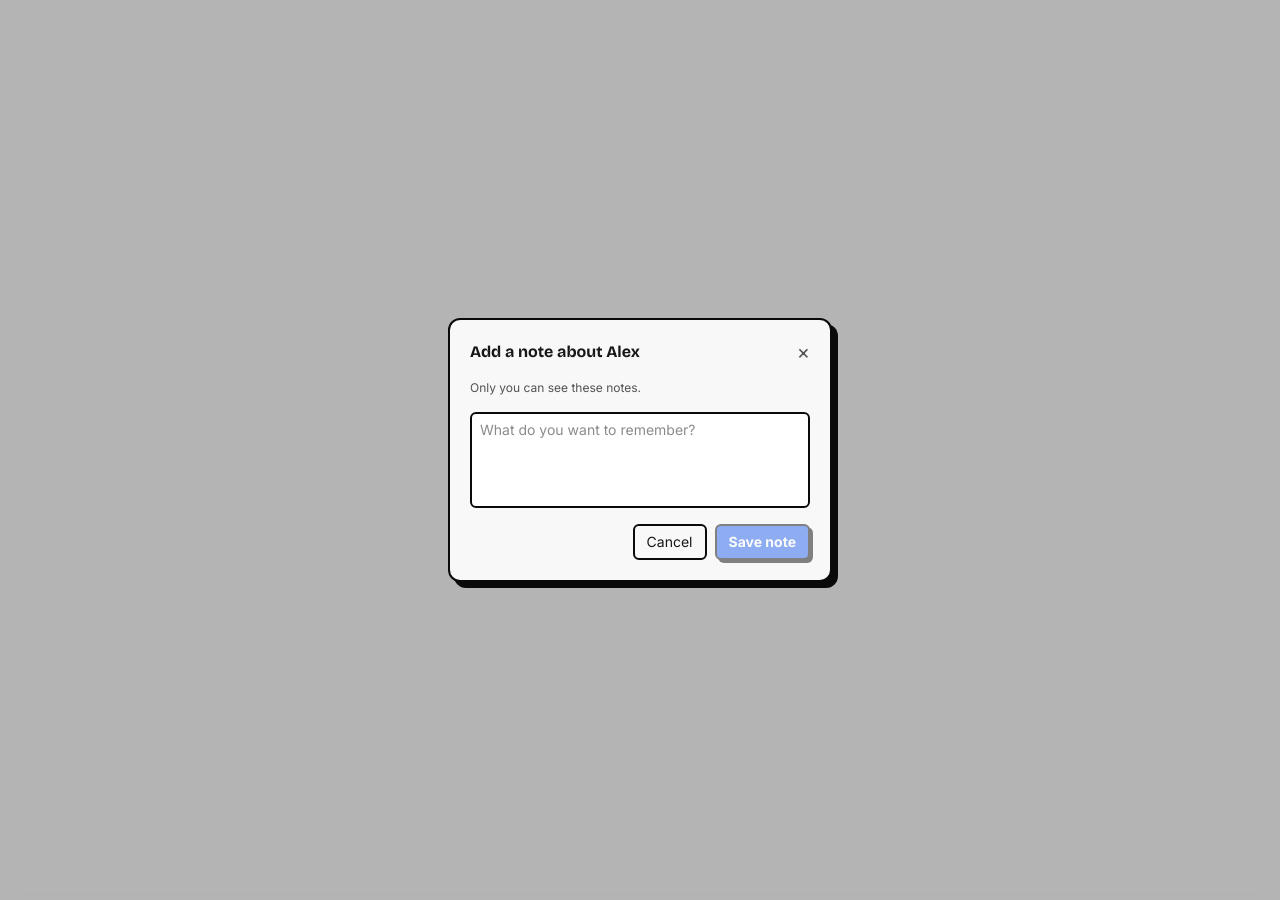
Test: AddNoteModal › on successful save shows the "Saved." confirmation, refreshes the list, and clears the textarea
Type "A short note" into the text box with placeholder "What do you want to remember?". click: coordinates (640, 460)
box: [470, 412, 810, 508]
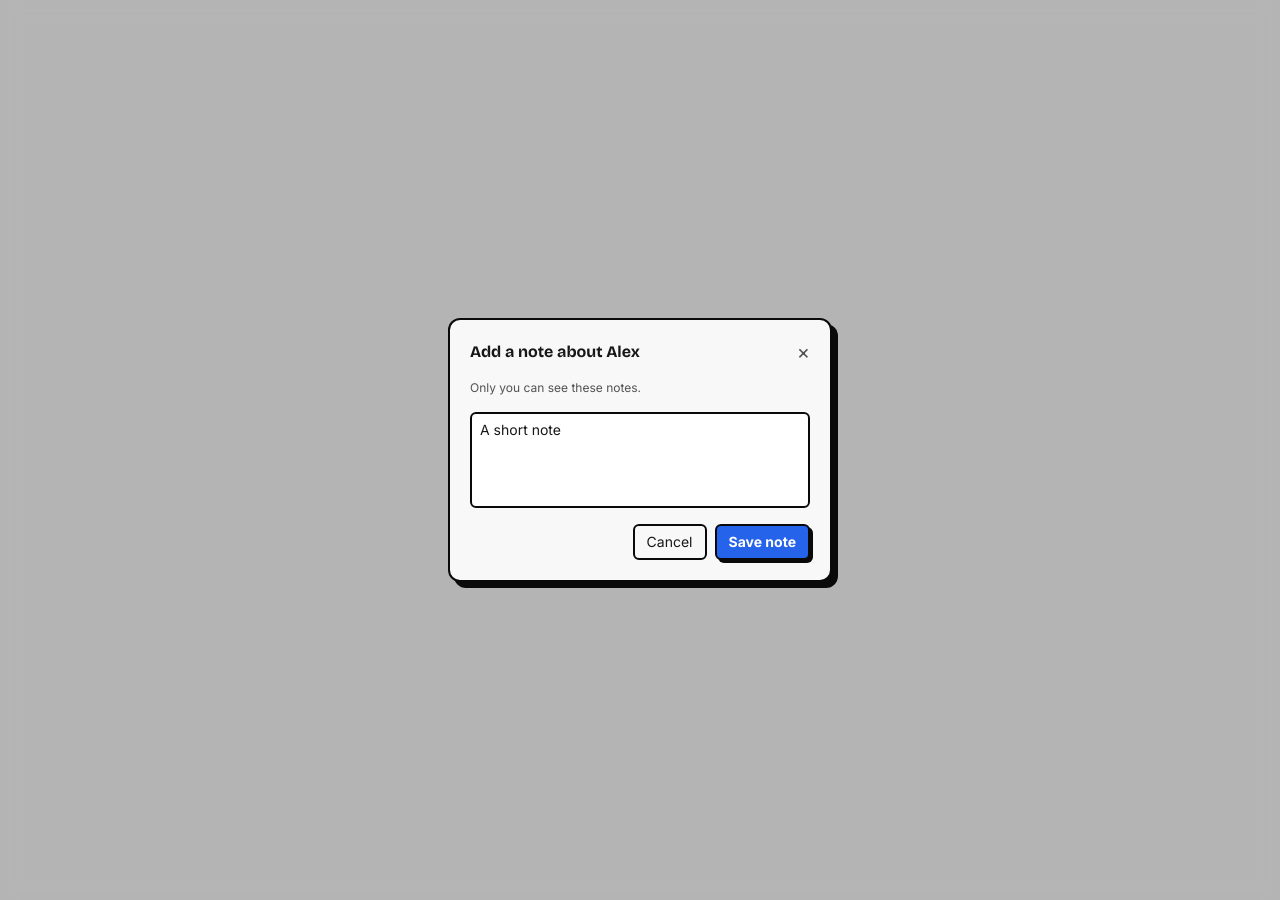
Click the button with test id "note-save". click: coordinates (762, 542)
box: [714, 524, 810, 560]
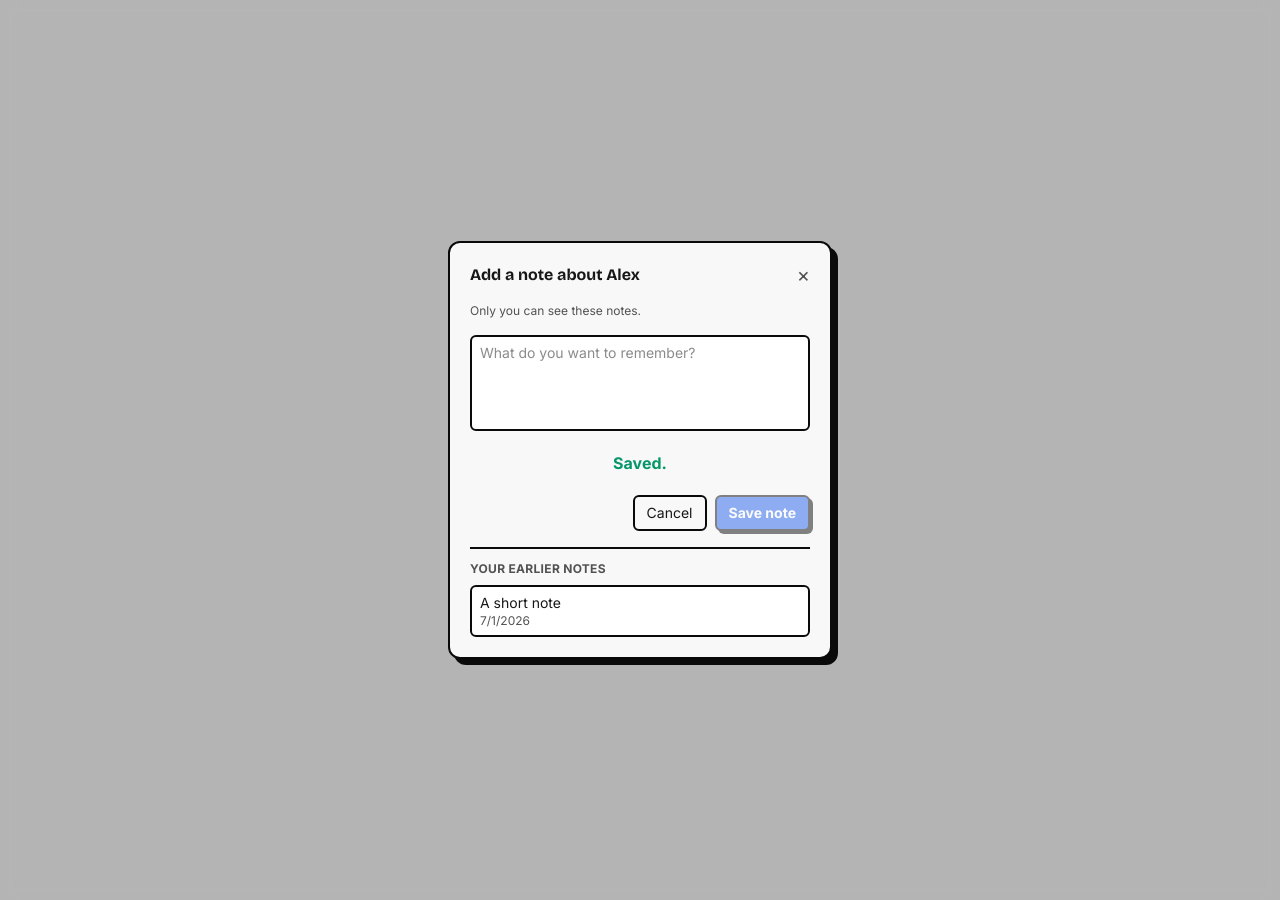
Result: the message "Saved." is shown at [613, 453, 667, 473]
Result: the text "Your earlier notes" is shown at [470, 561, 606, 576]
Result: the text "A short note" is shown at [480, 594, 561, 611]
